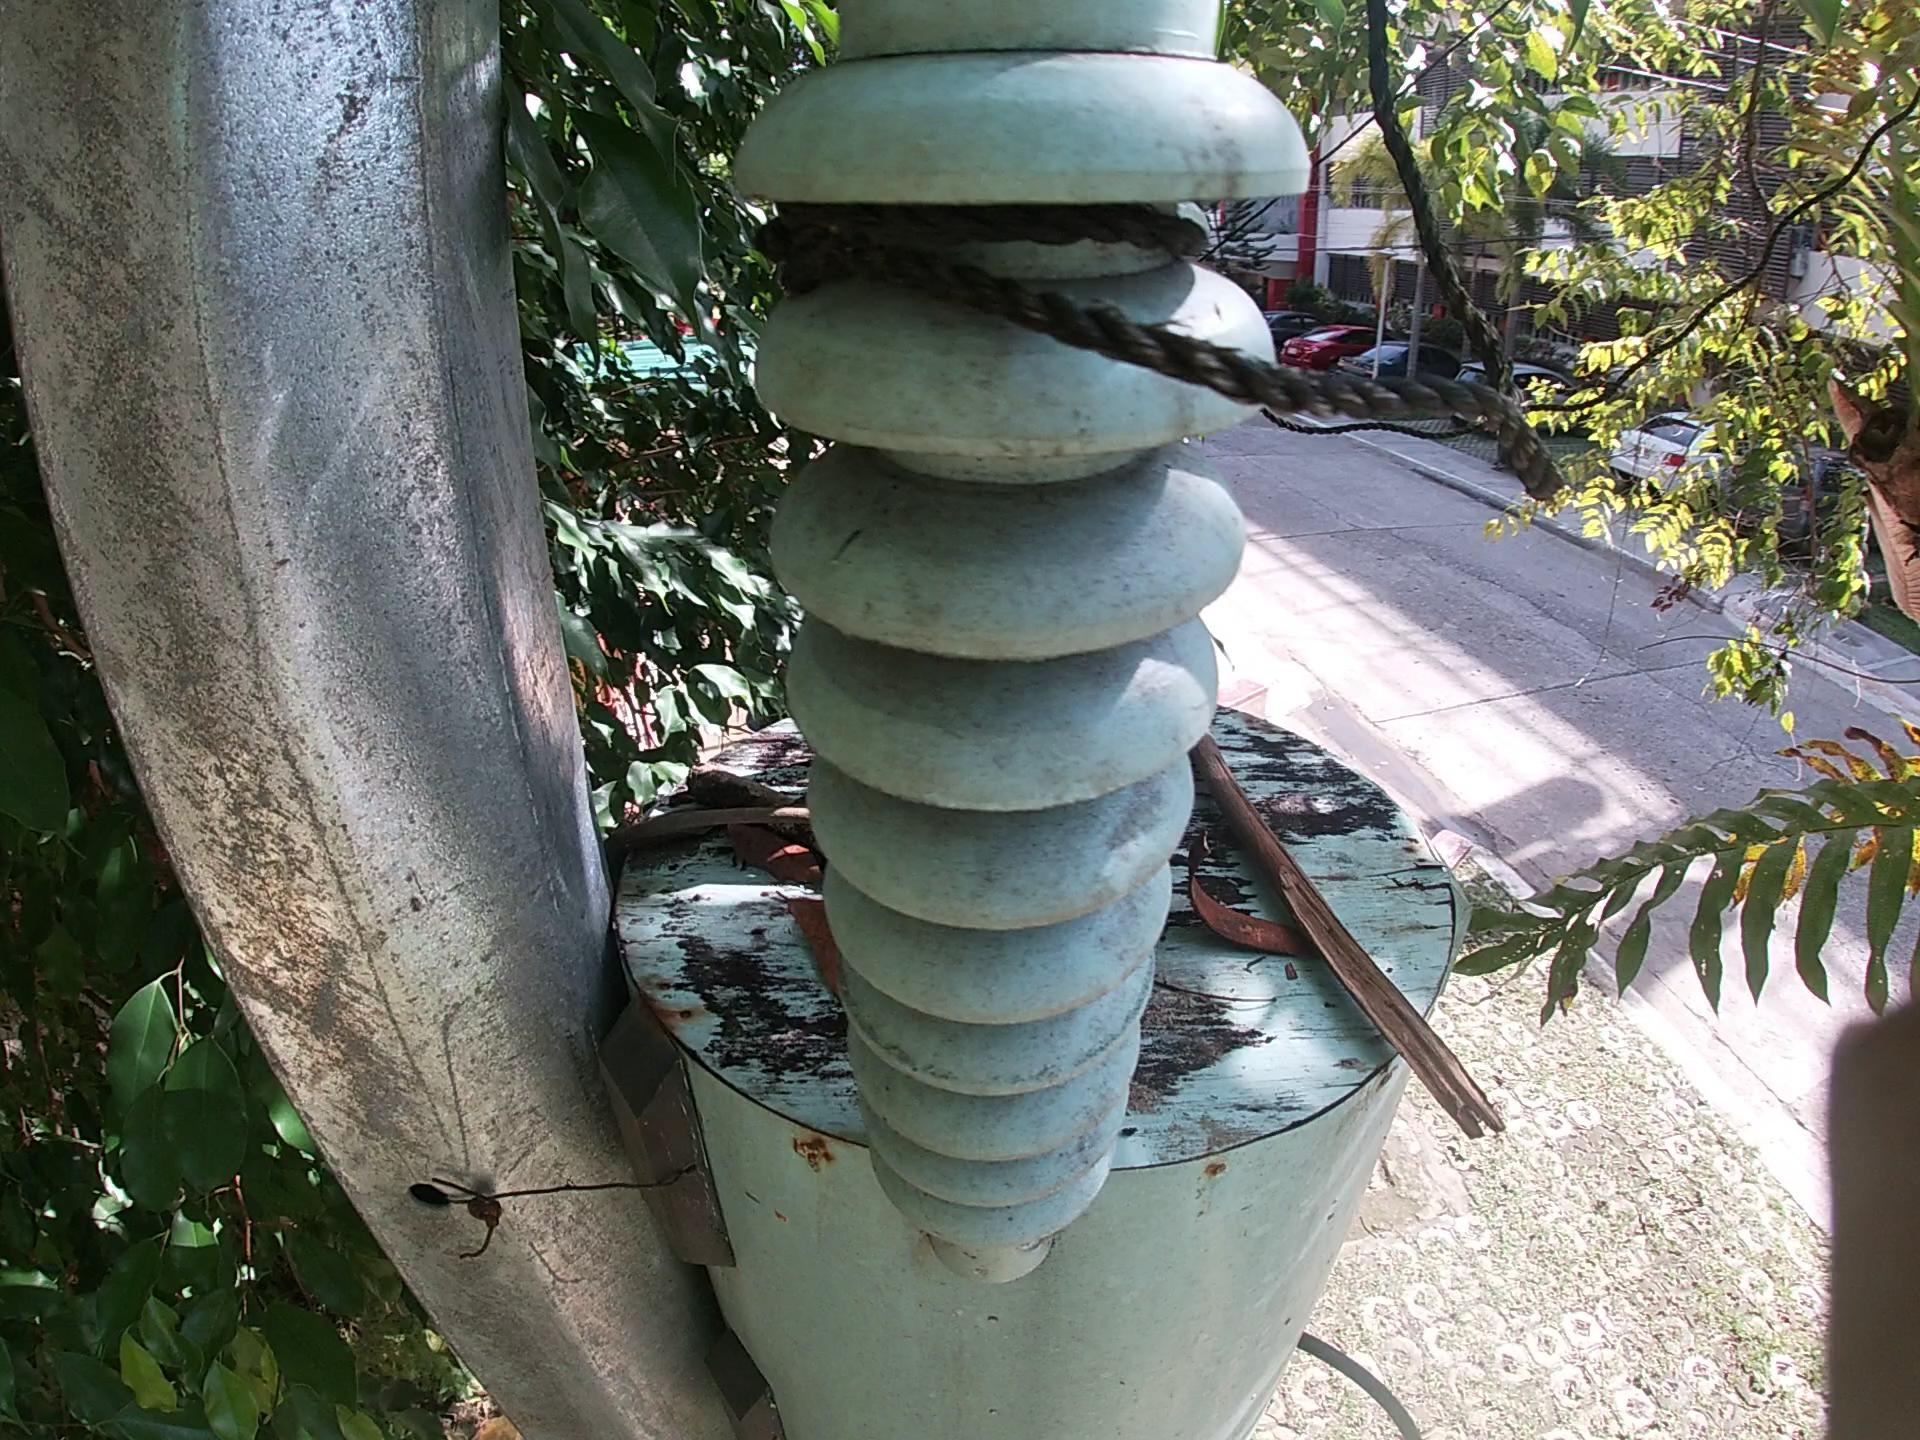leaf: (768, 892, 856, 1001), (729, 846, 838, 882)
mahogany fruit: (1181, 867, 1317, 982)
tree branch: (1191, 735, 1507, 1134), (596, 796, 835, 852), (683, 761, 825, 843), (1155, 979, 1299, 1004), (1209, 734, 1308, 768)
